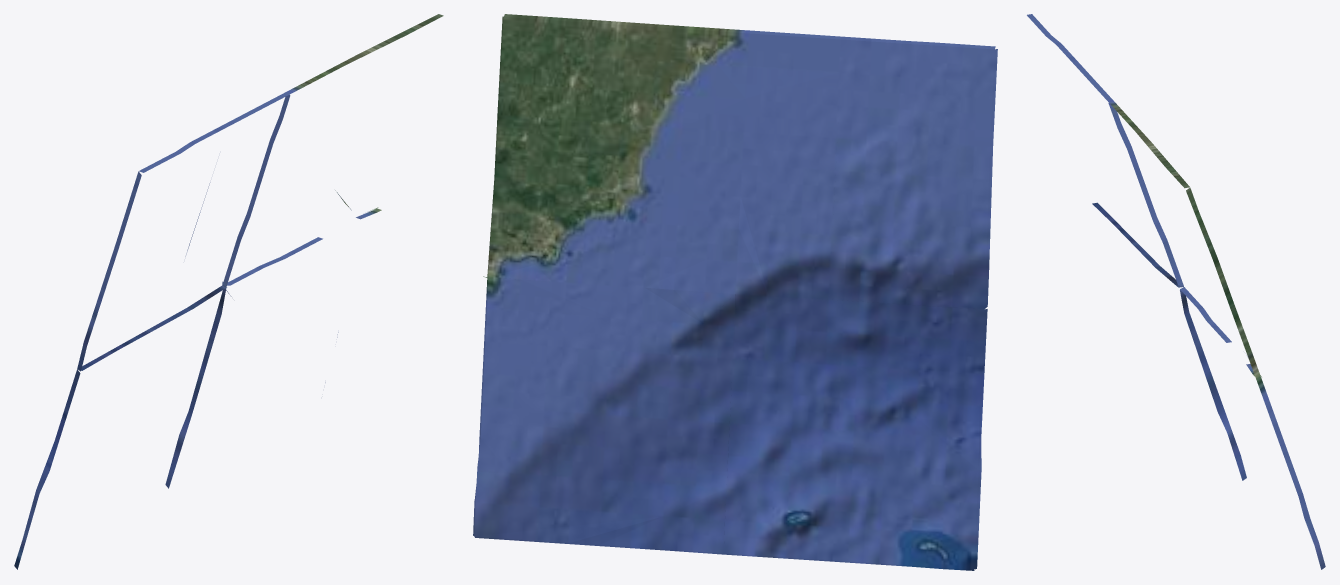
3 renders of one model, left to right at view 1: azimuth 30°, elevation 25°; view 2: azimuth 150°, elevation 25°; view 3: azimuth 270°, elevation 25°, orthographic. The views are drawn at different scales.
Size of the model in its own units: 316023 by 299980 by 201708.
1 material, 1 textured.
